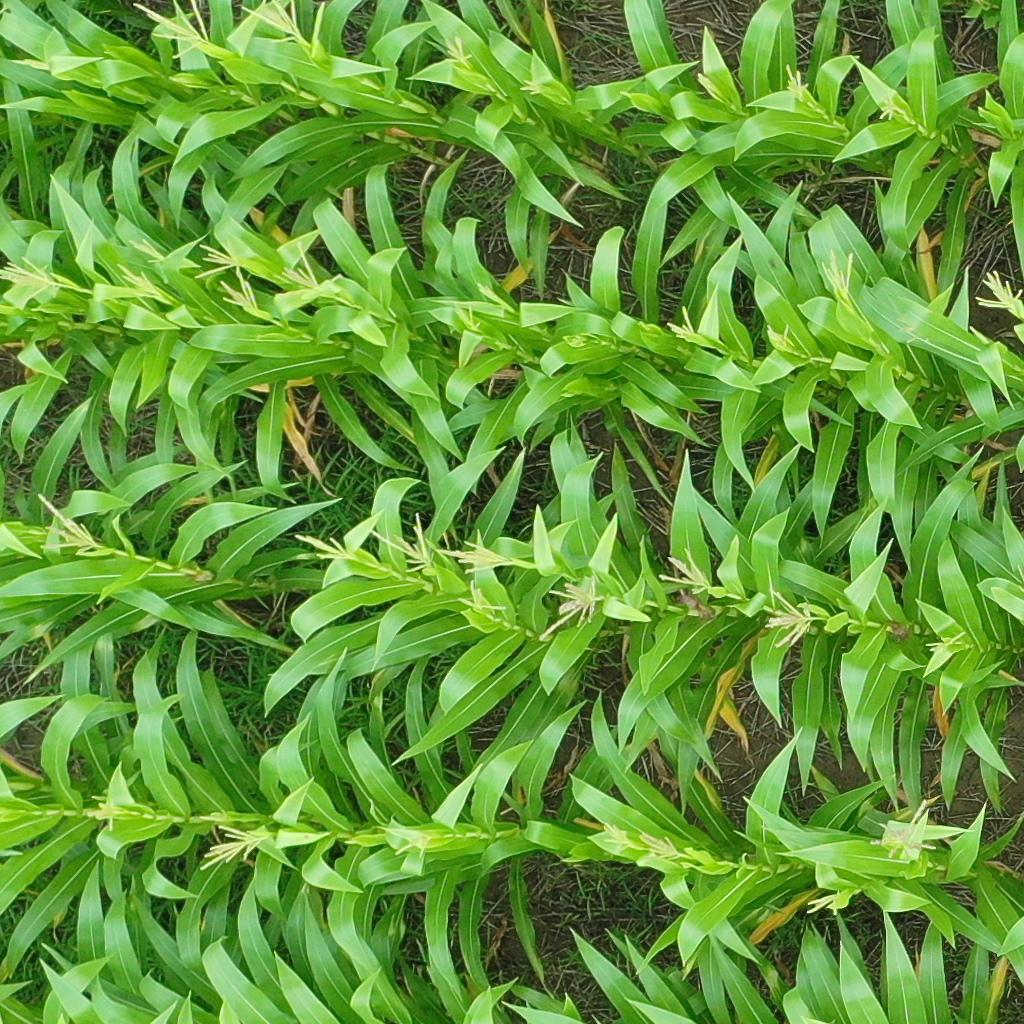Tassel: (28, 487, 102, 556), (132, 1, 216, 59), (537, 571, 605, 638), (437, 522, 522, 574), (369, 509, 435, 573), (870, 796, 937, 858), (279, 238, 343, 302), (196, 823, 268, 874), (651, 541, 712, 598), (1, 250, 69, 300), (766, 584, 814, 652), (238, 1, 307, 45), (194, 239, 257, 282), (974, 265, 1023, 316), (817, 246, 856, 307), (116, 260, 166, 304), (218, 271, 262, 319), (293, 530, 352, 564), (457, 582, 506, 619), (864, 85, 907, 126), (800, 884, 846, 920), (638, 831, 677, 869), (782, 59, 814, 103), (596, 819, 636, 854), (89, 798, 126, 834), (389, 832, 433, 862), (478, 279, 514, 315), (129, 236, 173, 264), (667, 303, 697, 344), (921, 627, 966, 654), (448, 35, 478, 74), (451, 301, 483, 335), (764, 317, 794, 351), (694, 67, 725, 95), (521, 78, 559, 99)
